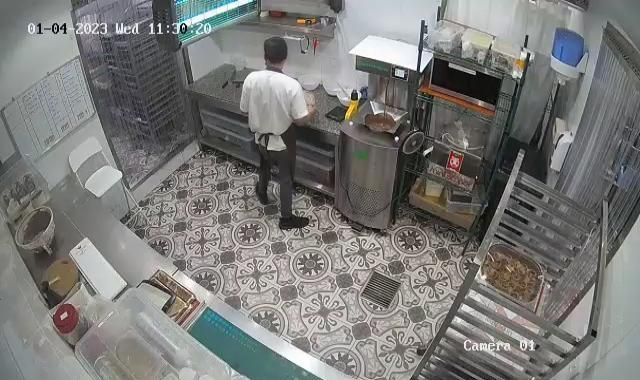gloves: (261, 33, 291, 66)
no_apron: (298, 90, 326, 122)
